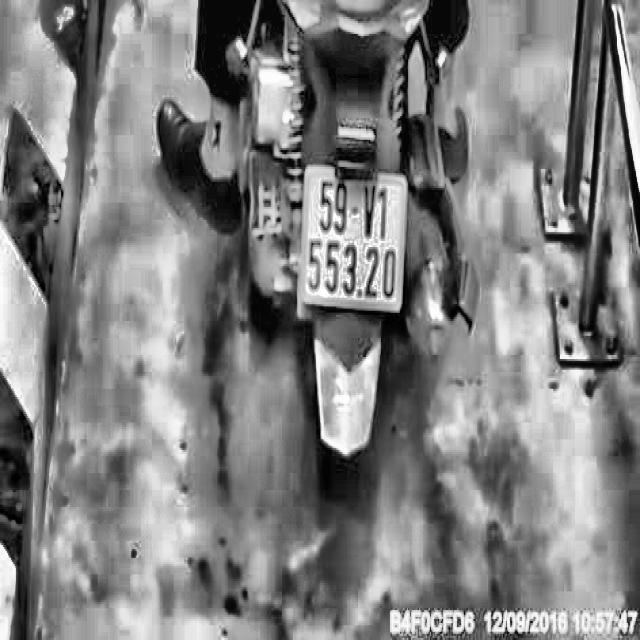plate: (295, 159, 411, 320)
